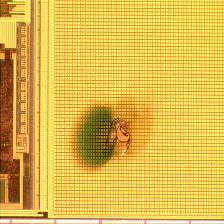PARTICLE: (69, 99, 156, 173)
